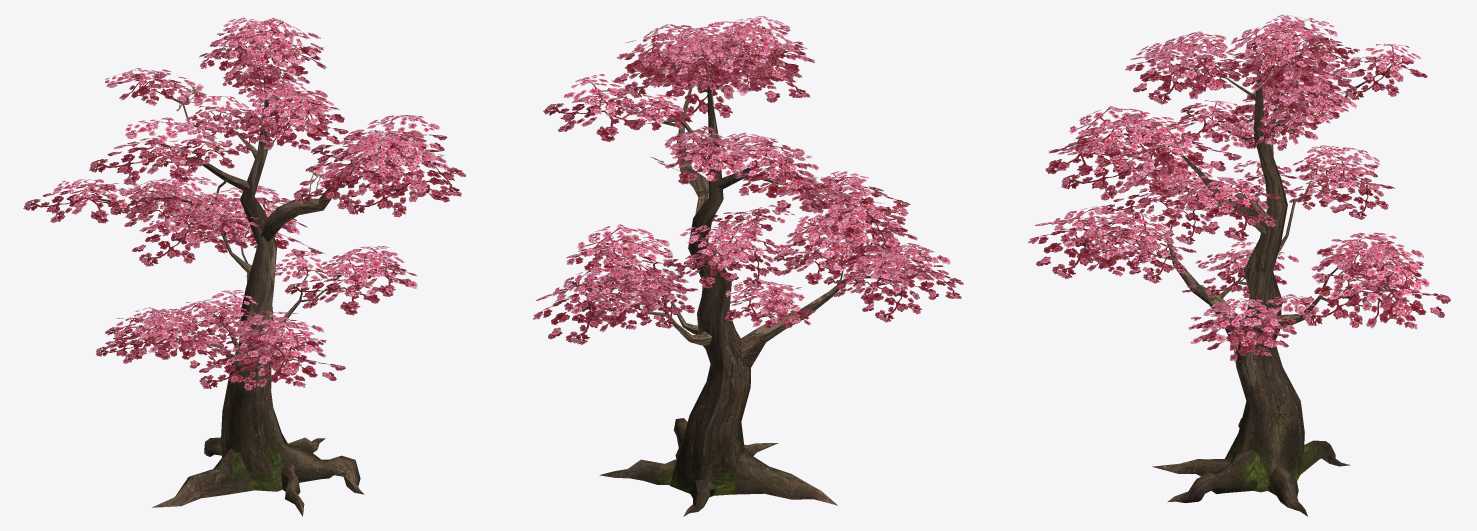
File: Plant_3002_zhiwu01_taohua03.FBX
3 views of the same model, side by side, from view 1: azimuth 30°, elevation 25°; view 2: azimuth 150°, elevation 25°; view 3: azimuth 270°, elevation 25° (orthographic). The views are drawn at different scales.
Parts seen in each view (by area): view 1: Plant_3002_zhiwu01_taohua03; view 2: Plant_3002_zhiwu01_taohua03; view 3: Plant_3002_zhiwu01_taohua03.
Boxes of the visible parts, box(x1,y1,x2,y2) form: Plant_3002_zhiwu01_taohua03: box(23, 17, 465, 516); Plant_3002_zhiwu01_taohua03: box(533, 16, 963, 516); Plant_3002_zhiwu01_taohua03: box(1028, 14, 1450, 516).
Bounding box in the file's own units: 2074 × 2236 × 2069.
